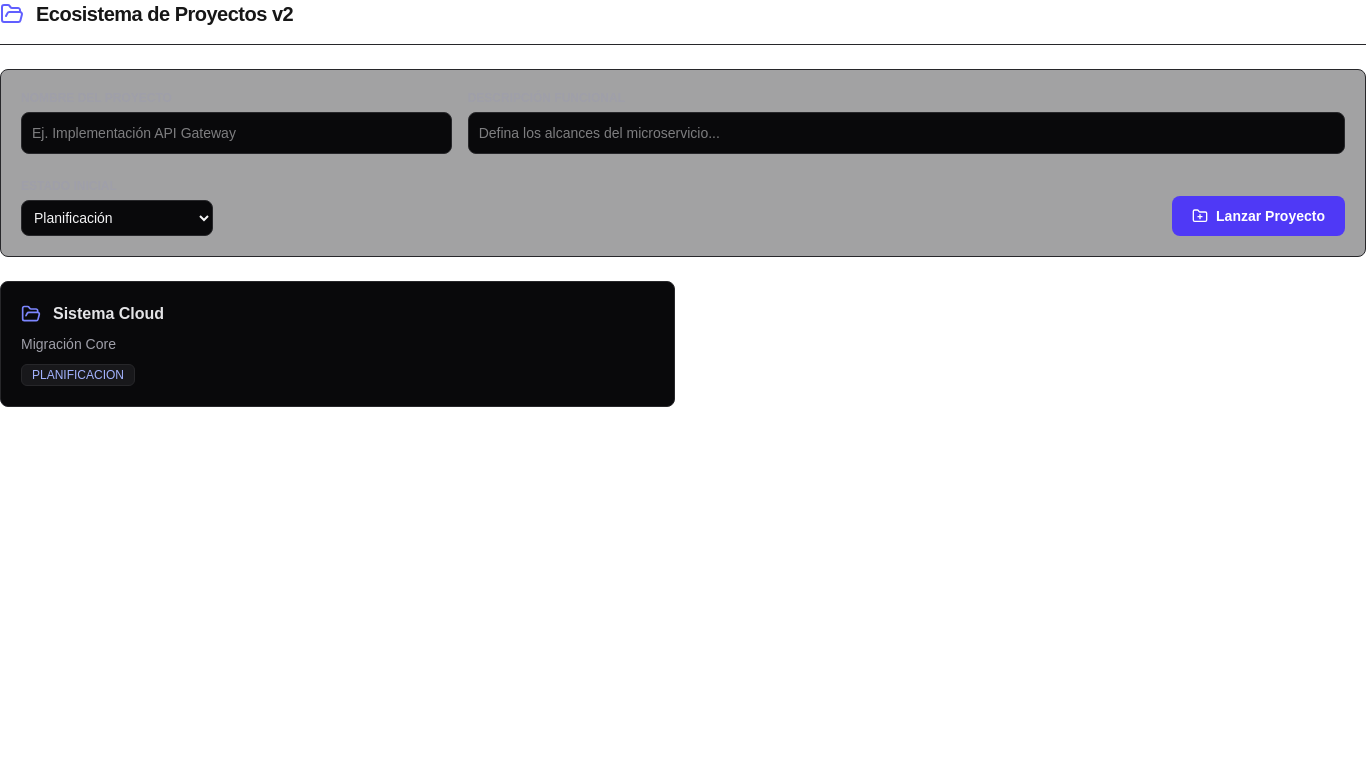
Test: GestionProyectos - Pruebas del Ecosistema Operacional › Debería renderizar un mensaje de aviso en el modal cuando el proyecto no tiene recursos asignados
Expected: the heading "Sistema Cloud" is shown, [53, 302, 164, 326]
Click the text "Sistema Cloud": (338, 344) [0, 281, 675, 407]
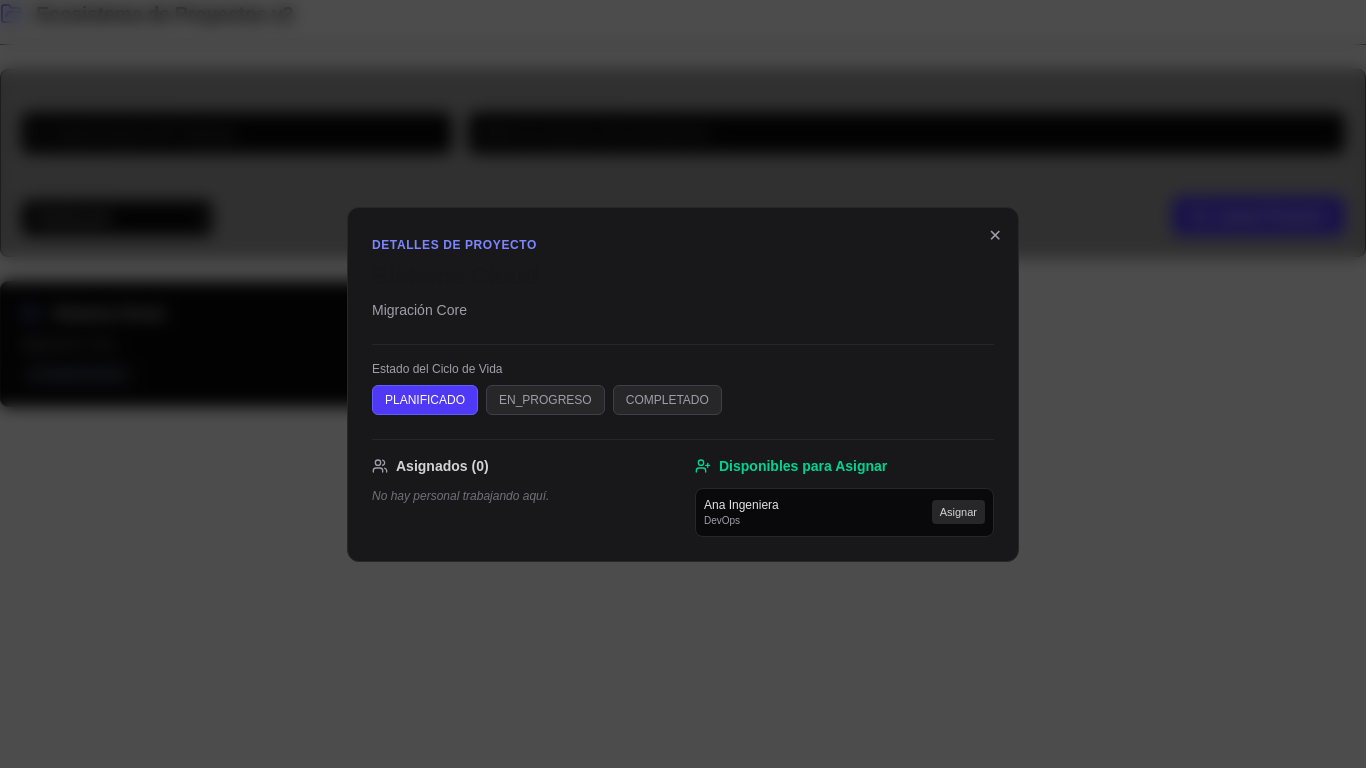
Expected: the text "No hay personal trabajando aquí." is shown, [372, 488, 550, 502]
